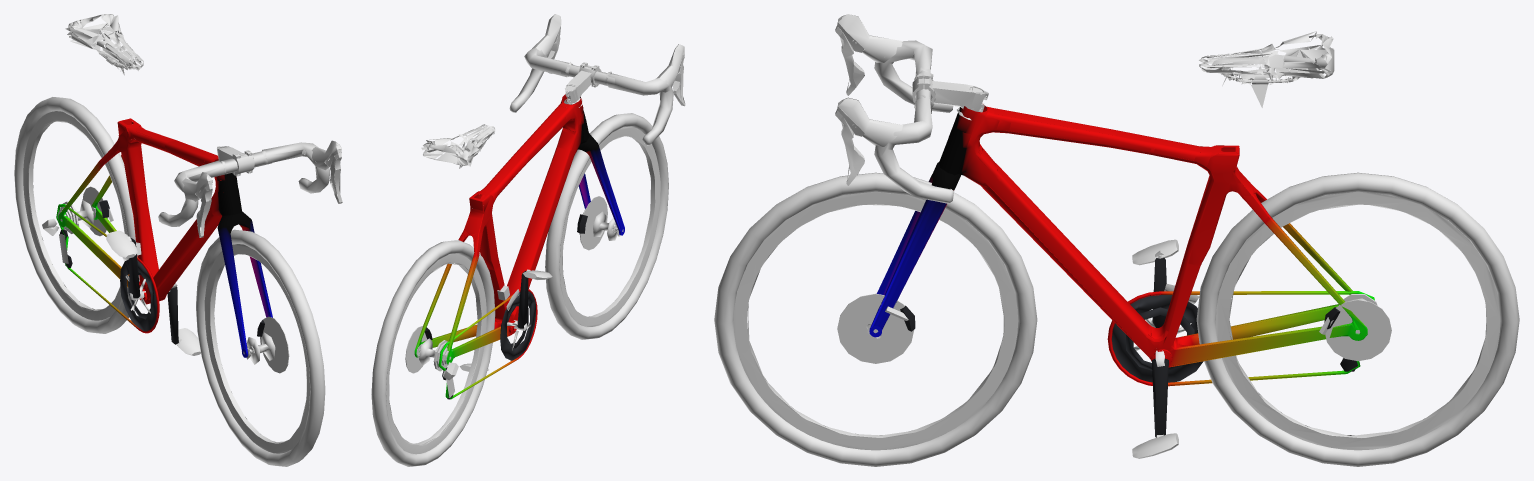
The model's file is gravel_lod1.glb.
The picture shows the model from 3 angles, left to right: view 1: azimuth 30°, elevation 25°; view 2: azimuth 150°, elevation 25°; view 3: azimuth 270°, elevation 25°; orthographic projection. The views are drawn at different scales.
Parts seen in each view (by area): view 1: frame, wheel_front, wheel_rear, cockpit, crankset, saddle, pedal_R, opt_derailleur, pedal_L; view 2: frame, wheel_rear, wheel_front, cockpit, crankset, saddle, opt_derailleur; view 3: frame, wheel_front, wheel_rear, cockpit, crankset, saddle.
Boxes of the visible parts, x1=… form: frame: x1=56, y1=118, x2=272, y2=357; wheel_front: x1=196, y1=229, x2=325, y2=466; wheel_rear: x1=14, y1=97, x2=139, y2=333; cockpit: x1=158, y1=140, x2=342, y2=237; crankset: x1=120, y1=238, x2=178, y2=344; saddle: x1=65, y1=14, x2=143, y2=75; pedal_R: x1=106, y1=230, x2=137, y2=258; opt_derailleur: x1=42, y1=218, x2=141, y2=268; pedal_L: x1=176, y1=328, x2=200, y2=355; frame: x1=414, y1=94, x2=624, y2=399; wheel_rear: x1=371, y1=240, x2=495, y2=466; wheel_front: x1=545, y1=113, x2=668, y2=339; cockpit: x1=509, y1=14, x2=685, y2=145; crankset: x1=500, y1=271, x2=535, y2=360; saddle: x1=421, y1=124, x2=495, y2=208; opt_derailleur: x1=442, y1=285, x2=519, y2=399; frame: x1=869, y1=104, x2=1374, y2=386; wheel_front: x1=714, y1=172, x2=1037, y2=466; wheel_rear: x1=1196, y1=172, x2=1519, y2=466; cockpit: x1=835, y1=14, x2=988, y2=203; crankset: x1=1112, y1=257, x2=1203, y2=437; saddle: x1=1199, y1=31, x2=1334, y2=107.
Bounding box in the file's own units: 0.4717 × 0.9675 × 1.67.
